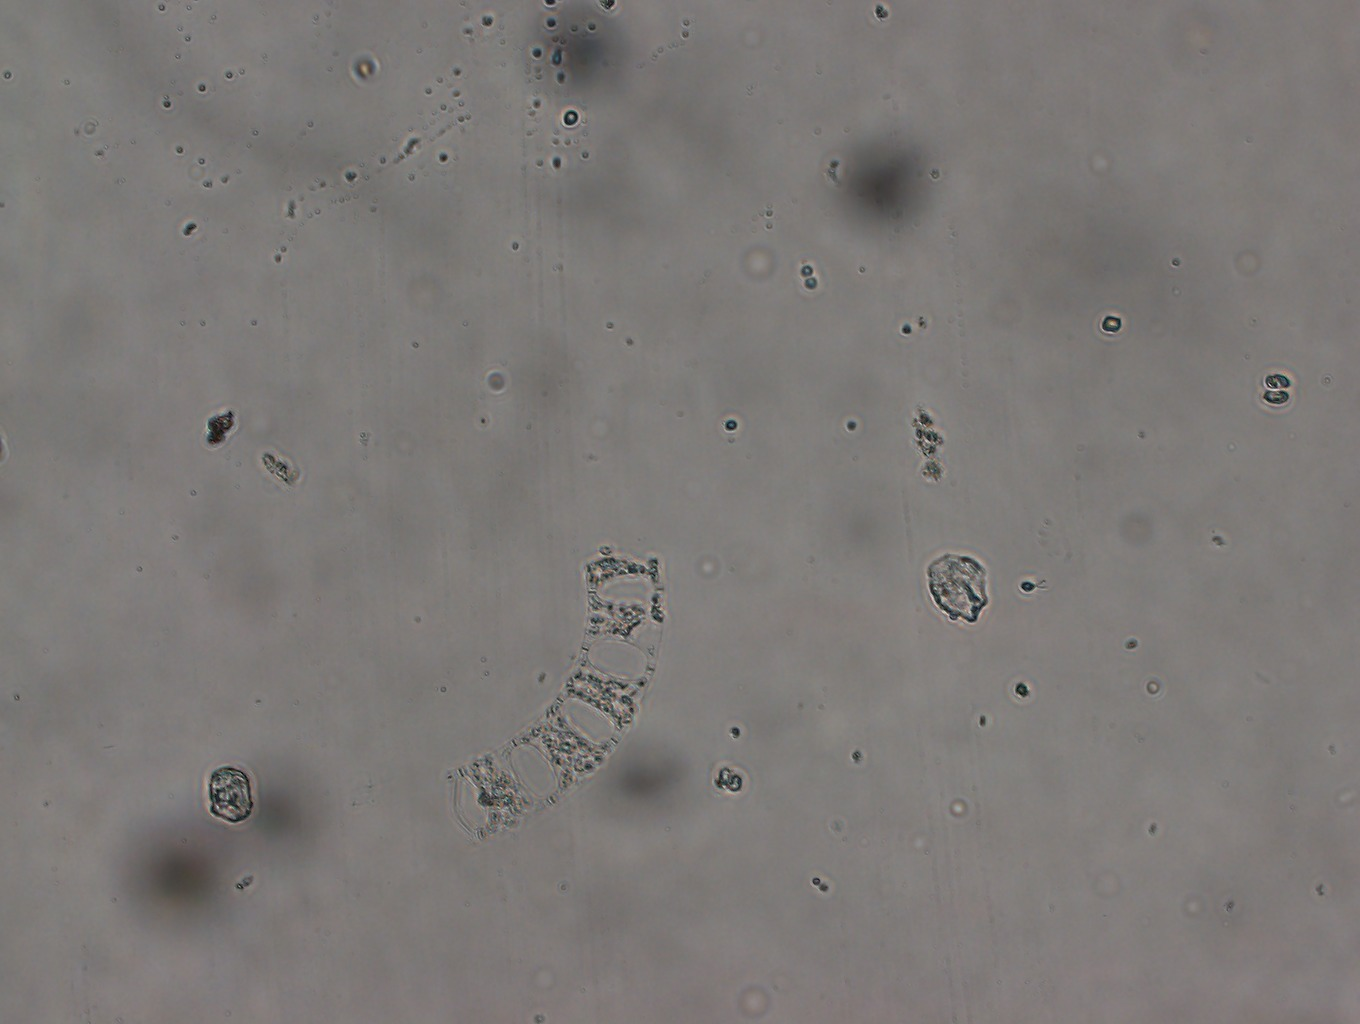eucampia: (433, 529, 677, 849)
